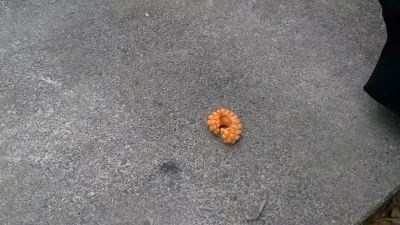eggs: (206, 106, 245, 144)
